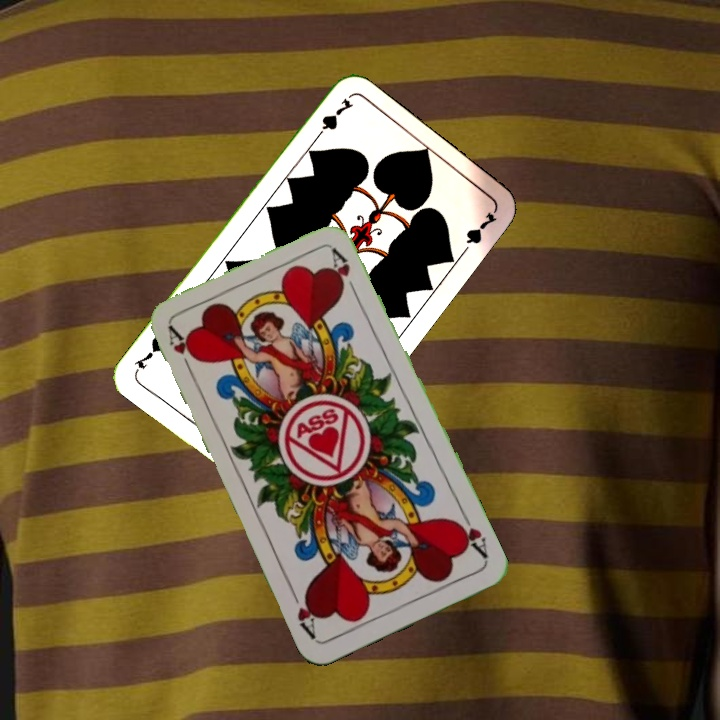G7: (309, 94, 355, 144)
HA: (450, 507, 490, 562), (164, 323, 201, 379)
